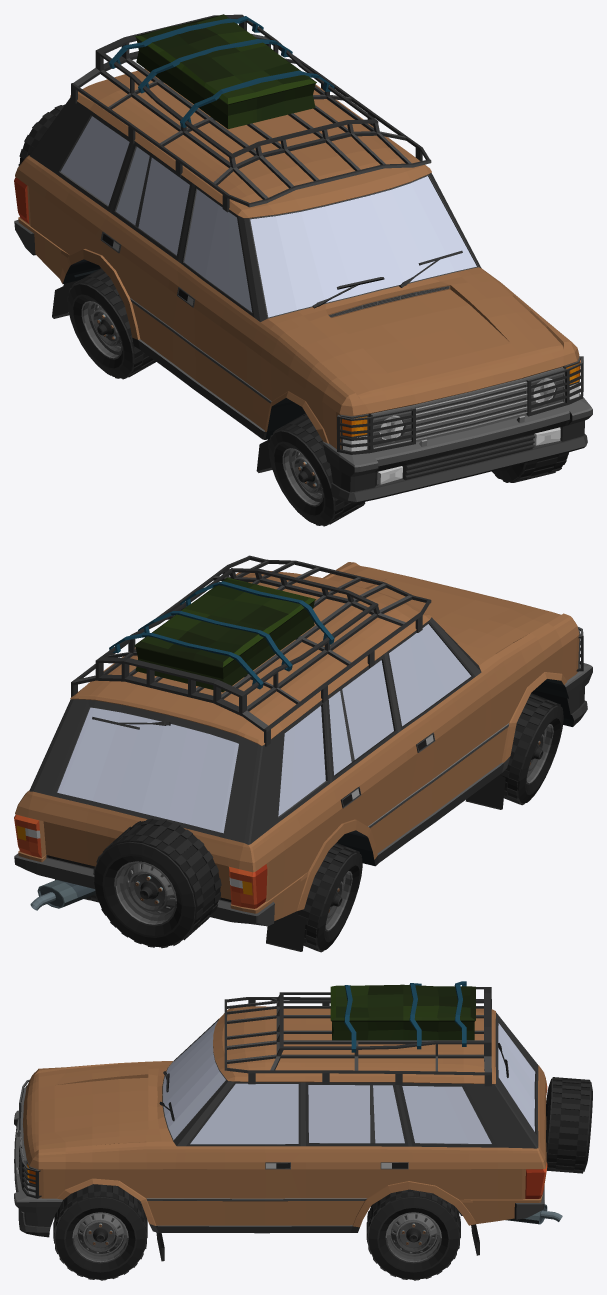
File: range-rover-classic.glb
3 renders of one model, top to bottom at view 1: azimuth 30°, elevation 25°; view 2: azimuth 150°, elevation 25°; view 3: azimuth 270°, elevation 25°, orthographic. The views are drawn at different scales.
Visible parts, largest first — view 1: Car.002, Bag, Car, CG_wheel_2, CG_wheel_3, Car.003, Car.001, CG_wheel_0, Spare Tire; view 2: Car.002, Bag, Car, Spare Tire, CG_wheel_2, CG_wheel_3, Car.010, Car.012, Car.011; view 3: Car.002, Bag, Car, CG_wheel_0, CG_wheel_1, Spare Tire, Car.001, Car.010.
Part boxes in pixels (x1,y1,x2,y2): Car.002: (14,68,592,503); Bag: (109,14,334,129); Car: (71,14,431,212); CG_wheel_2: (268,413,365,526); CG_wheel_3: (67,268,156,379); Car.003: (337,407,415,454); Car.001: (526,356,583,416); CG_wheel_0: (492,452,568,482); Spare Tire: (18,104,64,165); Car.002: (14,562,592,926); Bag: (109,577,334,692); Car: (71,555,431,746); Spare Tire: (93,818,221,948); CG_wheel_2: (500,693,563,805); CG_wheel_3: (298,843,362,952); Car.010: (30,879,95,910); Car.012: (266,911,305,951); Car.011: (465,775,505,809); Car.002: (14,1006,547,1237); Bag: (330,981,475,1052); Car: (224,987,491,1086); CG_wheel_0: (53,1184,147,1280); CG_wheel_1: (366,1189,460,1280); Spare Tire: (546,1077,592,1173); Car.001: (19,1145,41,1198); Car.010: (505,1204,562,1224).
Bounding box in the file's own units: 1.77 × 2 × 4.45.
3 materials, 1 textured.
